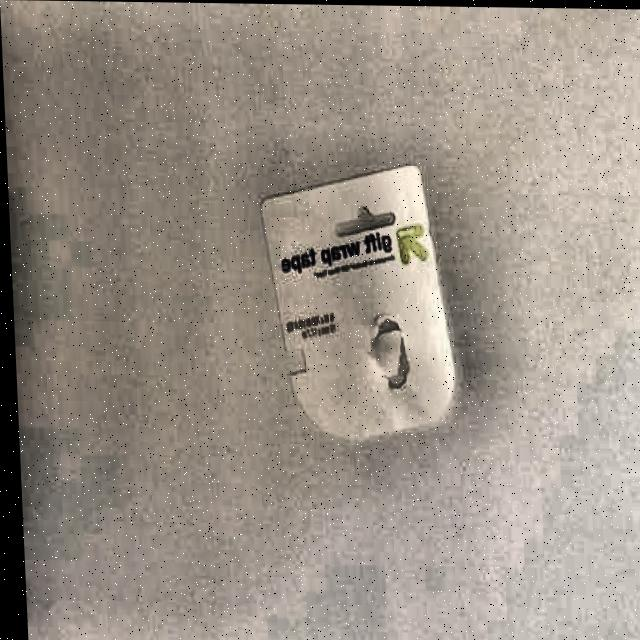paper: (257, 160, 456, 449)
